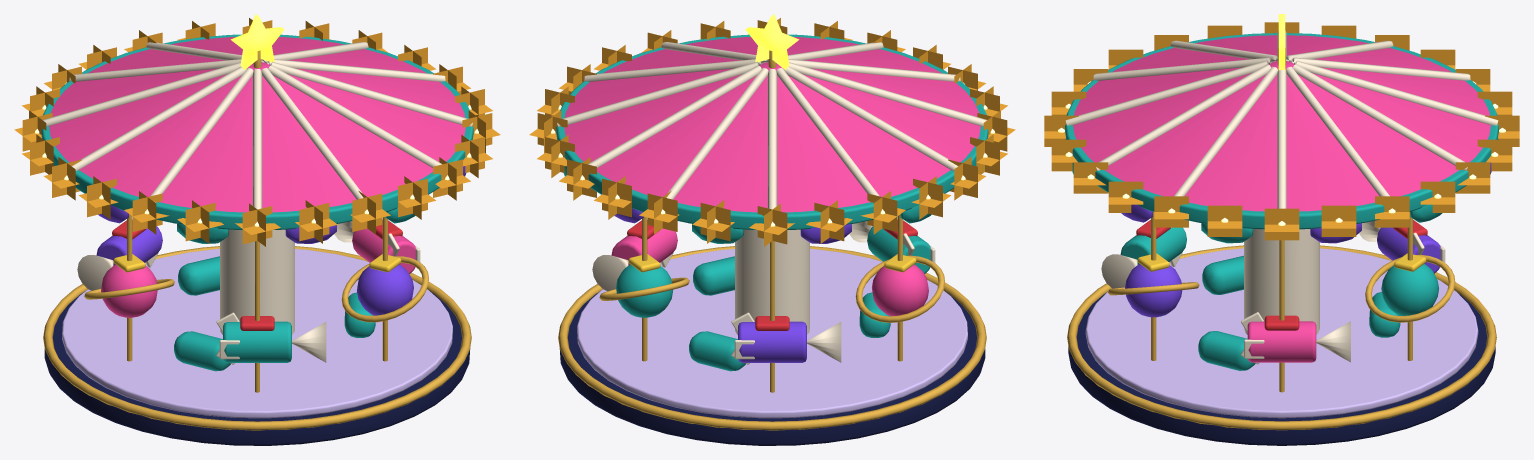
Rendered from mall_carousel.glb.
3 views of the same model, side by side, from view 1: azimuth 30°, elevation 25°; view 2: azimuth 150°, elevation 25°; view 3: azimuth 270°, elevation 25° (orthographic).
Parts seen in each view (by area): view 1: Spin, Base; view 2: Spin, Base; view 3: Spin, Base.
Boxes of the visible parts, x1,y1,x2,y2 form: Spin: [14, 14, 500, 418]; Base: [43, 229, 471, 445]; Spin: [529, 14, 1015, 418]; Base: [558, 229, 986, 445]; Spin: [1044, 14, 1519, 418]; Base: [1067, 229, 1496, 445].
Size of the model in its own units: 6.9 by 5.5 by 6.9.
